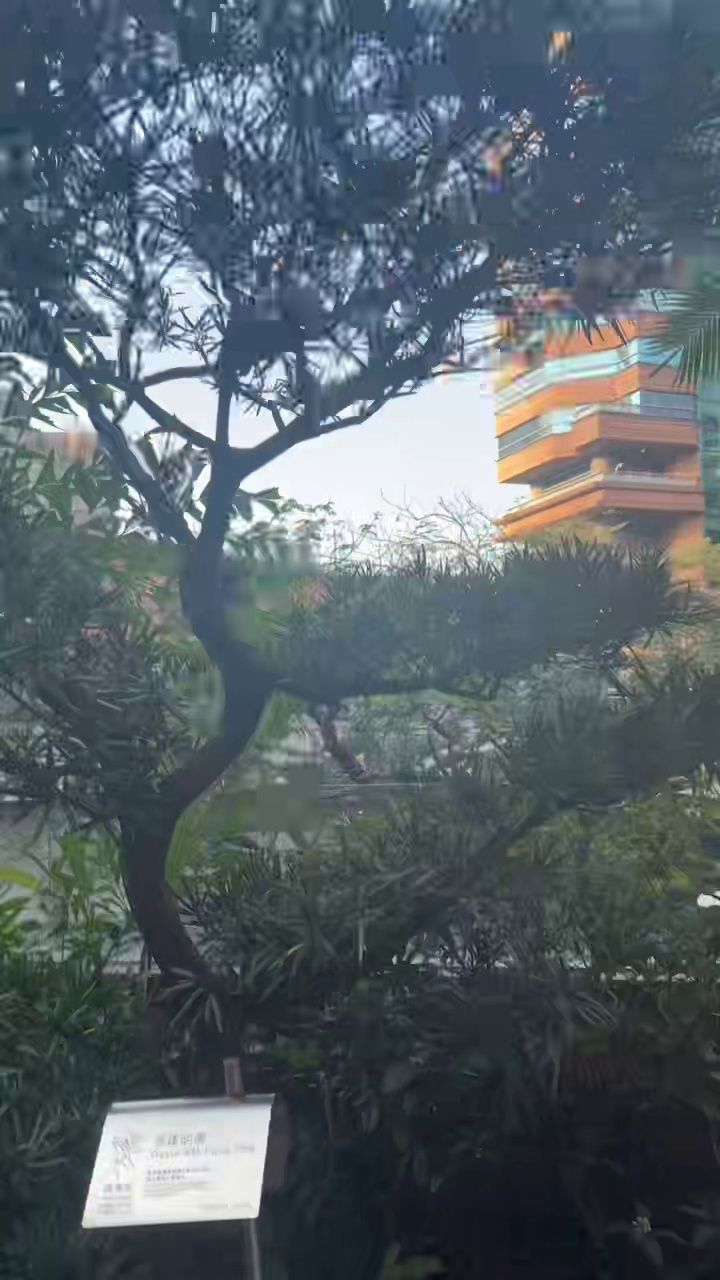Podocarpus macrophyllus: (0, 0, 719, 980)
